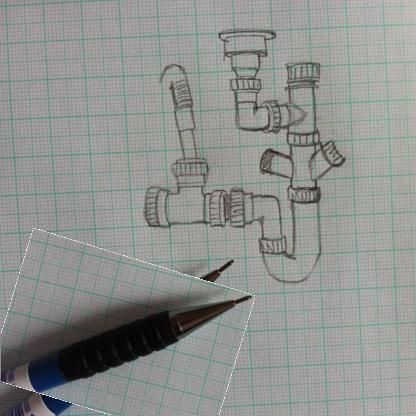Pen: (1, 243, 246, 415)
